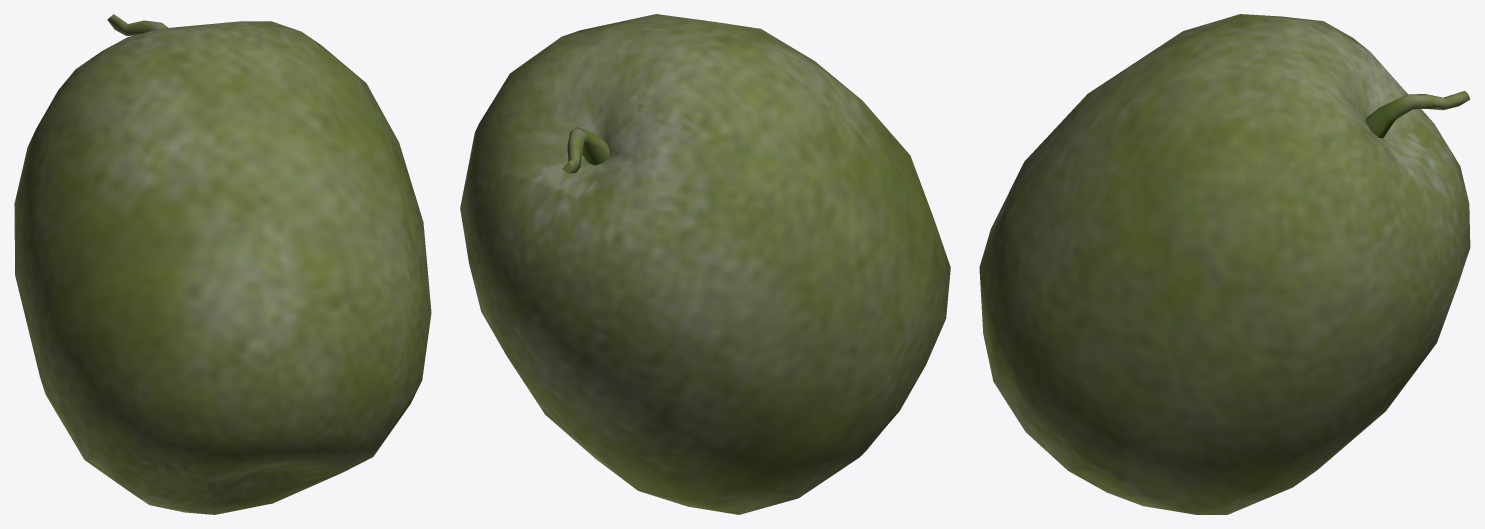
The model's file is SM_配餐室_水果蔬菜_25.fbx.
The picture shows the model from 3 angles, left to right: view 1: azimuth 30°, elevation 25°; view 2: azimuth 150°, elevation 25°; view 3: azimuth 270°, elevation 25°; orthographic projection. The views are drawn at different scales.
Visible parts, largest first — view 1: SM_配餐室_水果蔬菜_25; view 2: SM_配餐室_水果蔬菜_25; view 3: SM_配餐室_水果蔬菜_25.
Boxes of the visible parts, box(x1,y1,x2,y2) form: SM_配餐室_水果蔬菜_25: box(14, 14, 431, 514); SM_配餐室_水果蔬菜_25: box(460, 14, 950, 514); SM_配餐室_水果蔬菜_25: box(979, 14, 1470, 514).
Bounding box in the file's own units: 146 × 170 × 160.
